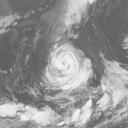cyclone: (43, 43, 89, 91)
